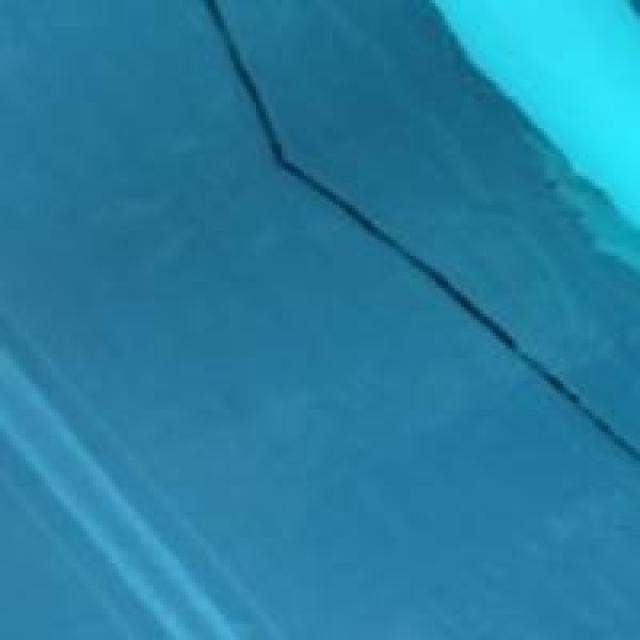Crack: (198, 0, 637, 570)
